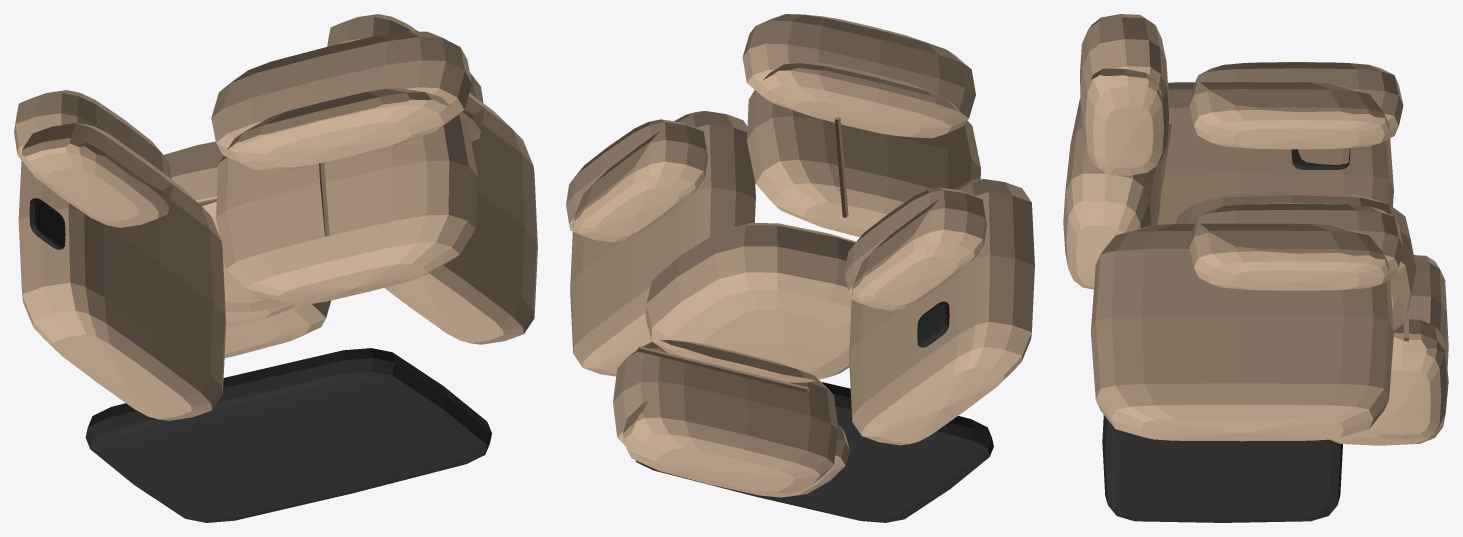
File: drake-recliner.glb
The picture shows the model from 3 angles, left to right: view 1: azimuth 30°, elevation 25°; view 2: azimuth 150°, elevation 25°; view 3: azimuth 270°, elevation 25°; orthographic projection. The views are drawn at different scales.
Visible parts, largest first — view 1: recliner_back, lower_base, arm_body_-1, arm_body_1, arm_top_-1, seat_1, footrest, arm_top_1, control_panel, front_drop_1; view 2: recliner_back, arm_body_-1, seat_1, front_drop_1, arm_body_1, lower_base, arm_top_-1, arm_top_1, footrest, seat_front_seam_1, control_panel, back_seam_1; view 3: arm_body_1, recliner_back, lower_base, arm_body_-1, arm_top_1, arm_top_-1, front_drop_1, seat_1, footrest, control_panel.
Part boxes in pixels (x1,y1,x2,y2): recliner_back: [211, 31, 477, 304]; lower_base: [85, 348, 491, 522]; arm_body_-1: [18, 123, 226, 420]; arm_body_1: [384, 93, 537, 344]; arm_top_-1: [14, 90, 172, 227]; seat_1: [163, 141, 287, 311]; footrest: [224, 300, 330, 358]; arm_top_1: [327, 14, 484, 141]; control_panel: [29, 198, 65, 249]; front_drop_1: [225, 304, 294, 329]; recliner_back: [742, 14, 980, 237]; arm_body_-1: [849, 179, 1034, 445]; seat_1: [645, 223, 855, 382]; front_drop_1: [613, 340, 838, 492]; arm_body_1: [570, 111, 755, 376]; lower_base: [635, 382, 993, 522]; arm_top_-1: [845, 187, 986, 310]; arm_top_1: [566, 119, 707, 242]; footrest: [622, 400, 849, 497]; seat_front_seam_1: [637, 346, 809, 392]; control_panel: [917, 301, 949, 347]; back_seam_1: [834, 117, 848, 217]; arm_body_1: [1090, 223, 1393, 441]; recliner_back: [1063, 14, 1168, 289]; lower_base: [1102, 415, 1342, 522]; arm_body_-1: [1157, 82, 1393, 224]; arm_top_1: [1189, 203, 1403, 290]; arm_top_-1: [1189, 62, 1403, 149]; front_drop_1: [1367, 255, 1448, 439]; seat_1: [1176, 192, 1416, 330]; footrest: [1330, 319, 1448, 445]; control_panel: [1291, 148, 1350, 169].
Bounding box in the file's own units: 0.983 × 1.06 × 0.908.
